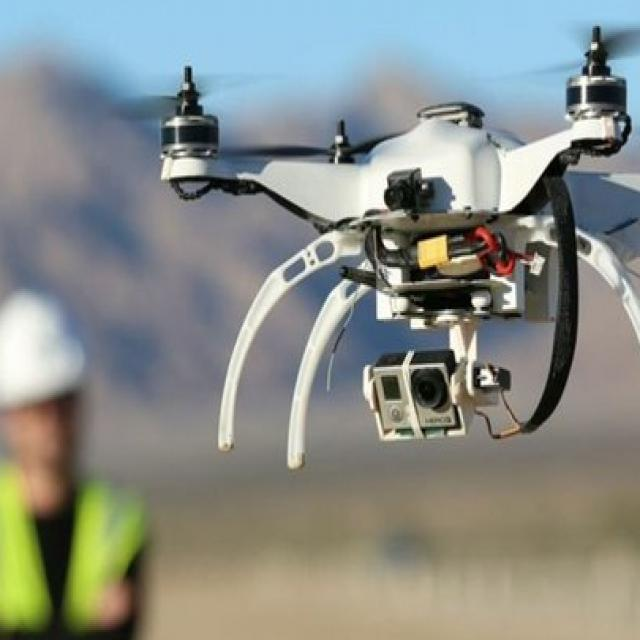drone: (131, 30, 640, 335)
